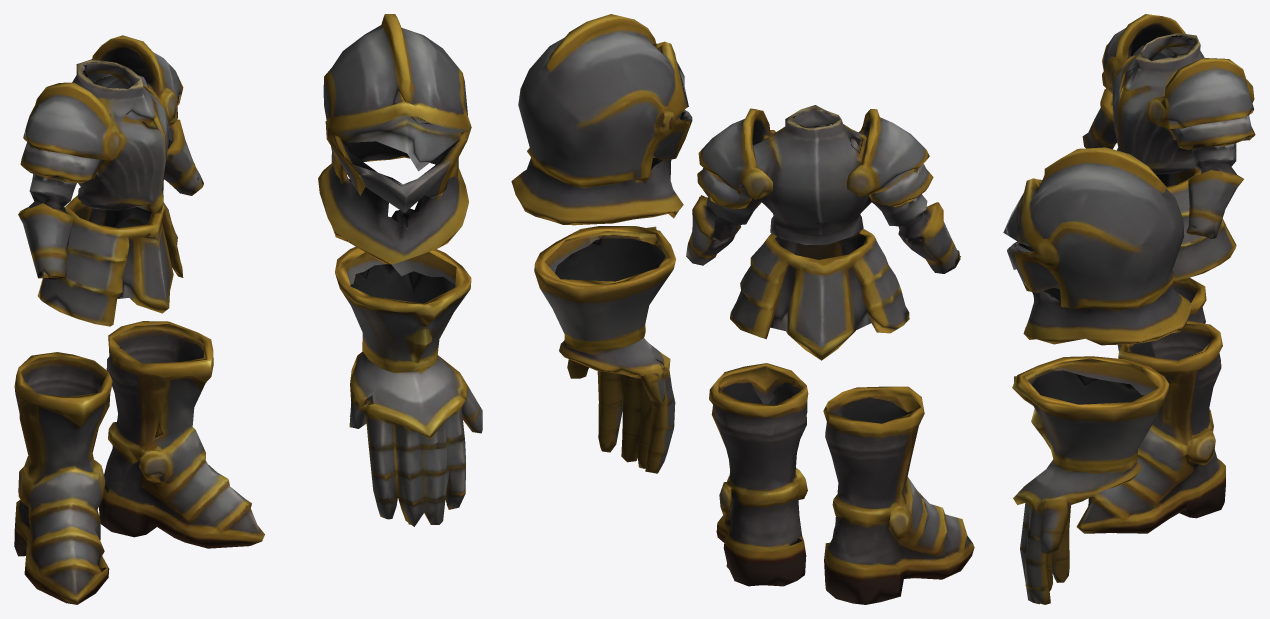
The picture shows the model from 3 angles, left to right: view 1: azimuth 30°, elevation 25°; view 2: azimuth 150°, elevation 25°; view 3: azimuth 270°, elevation 25°; orthographic projection. The views are drawn at different scales.
Parts seen in each view (by area): view 1: world; view 2: world; view 3: world.
Part boxes in pixels (x1,y1,x2,y2): world: [14, 14, 482, 604]; world: [511, 14, 974, 604]; world: [1003, 14, 1255, 604].
Bounding box in the file's own units: 0.9493 × 0.9983 × 0.5045.
Materials: 1 (1 with a texture image).
